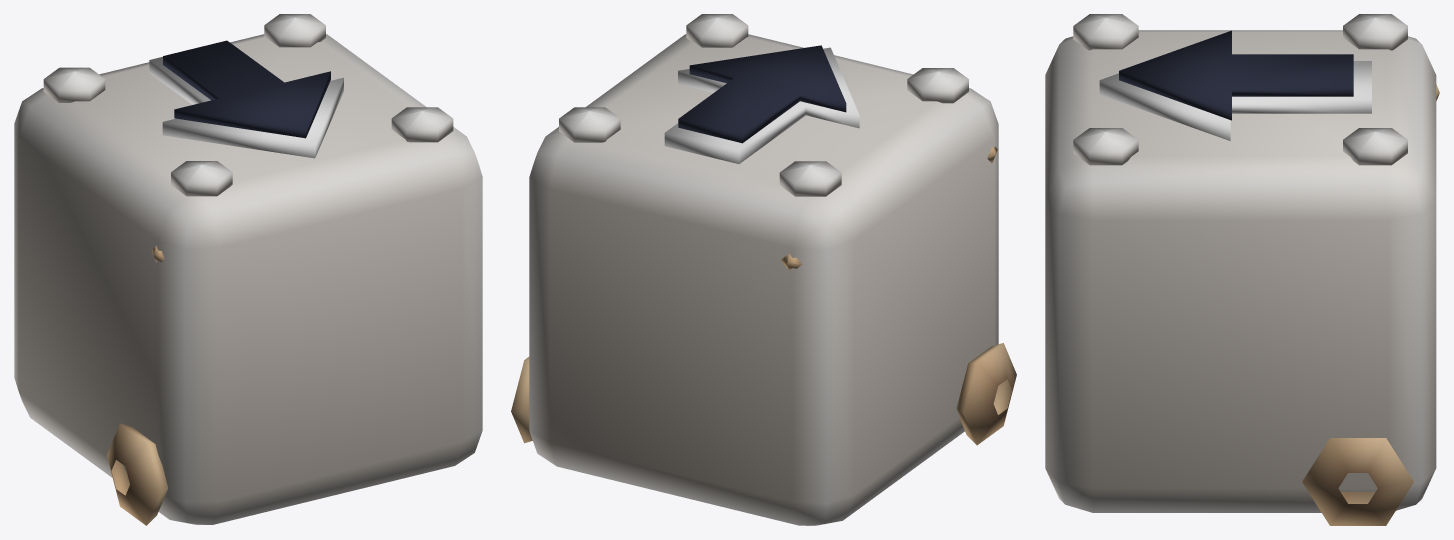
The model's file is pastel_lo.glb.
3 views of the same model, side by side, from view 1: azimuth 30°, elevation 25°; view 2: azimuth 150°, elevation 25°; view 3: azimuth 270°, elevation 25° (orthographic). The views are drawn at different scales.
Parts seen in each view (by area): view 1: pastel_lo; view 2: pastel_lo; view 3: pastel_lo.
Part boxes in pixels (box(x1,y1,x2,y2)): pastel_lo: box(14, 14, 482, 525); pastel_lo: box(511, 14, 1016, 525); pastel_lo: box(1045, 14, 1439, 525).
Bounding box in the file's own units: 1.03 × 0.96 × 0.908.
